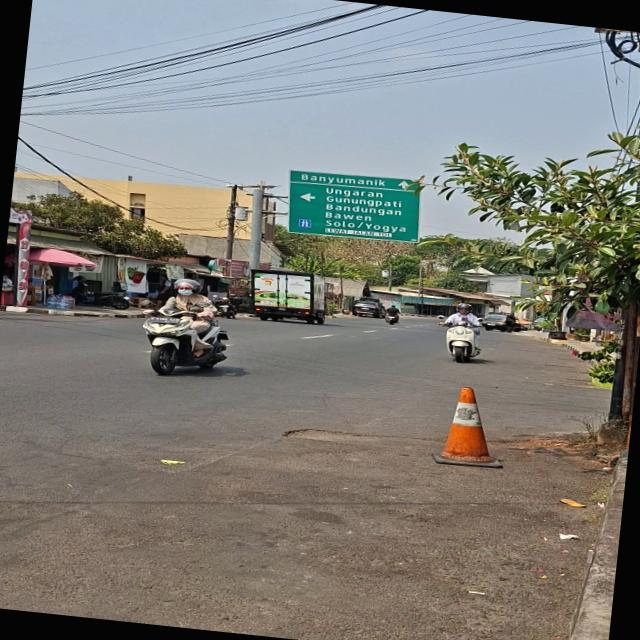WithHelmet: (138, 275, 220, 359), (435, 300, 486, 354)
WithoutHelmet: (385, 304, 402, 326)
